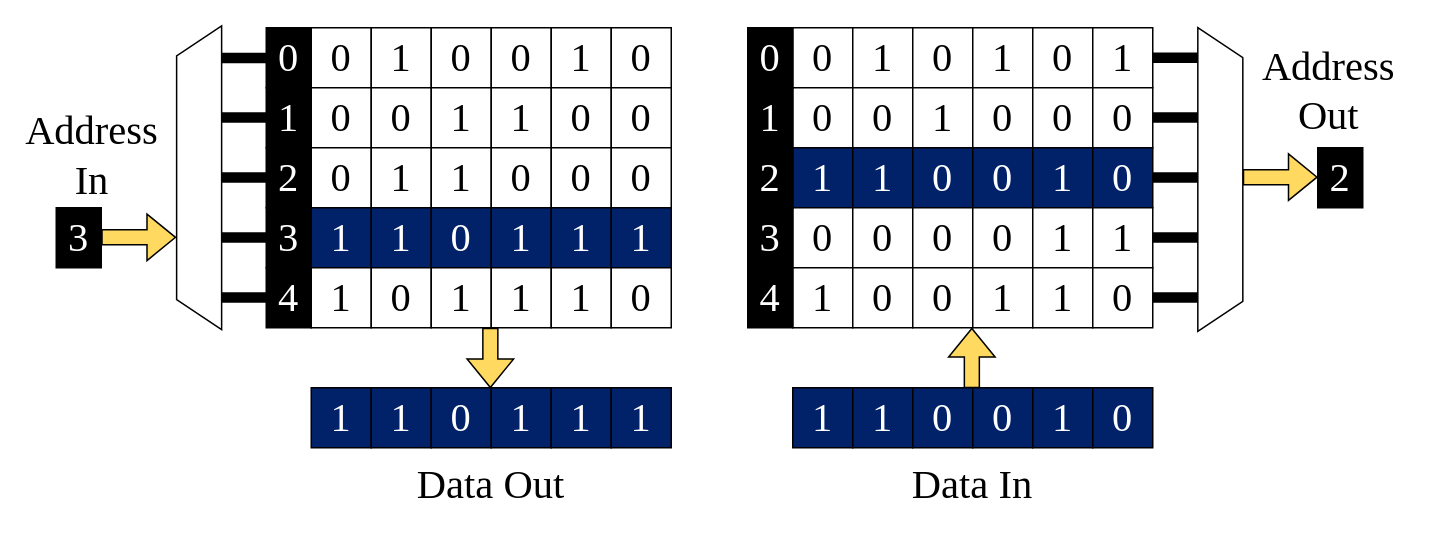
The diagram is 1434 pixels wide and 536 high, and some of its shapes have lost their labels. The box of each missing label's shape, as (x1, y1, x2, y2) in pixels:
DECODER: (175, 24, 222, 330)
ENCODER: (1196, 26, 1243, 332)
